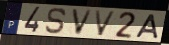2: (114, 11, 138, 40)
4: (23, 6, 40, 34)
A: (135, 13, 160, 40)
S: (44, 7, 68, 35)
V: (70, 8, 94, 37), (93, 10, 117, 38)
